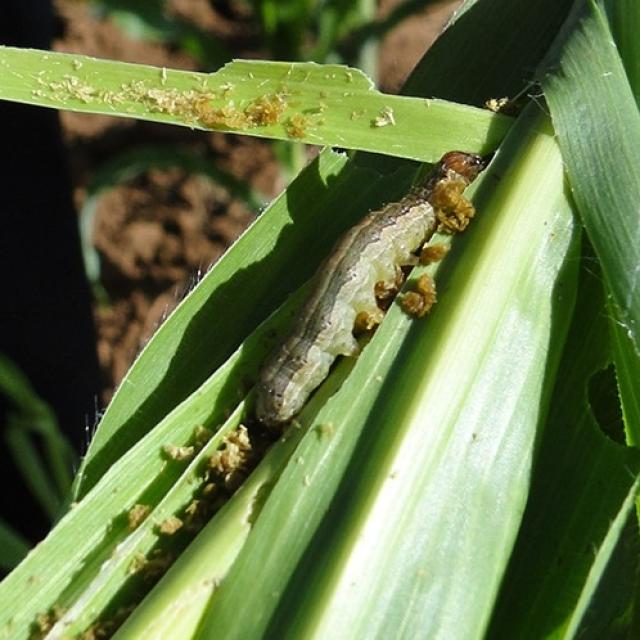Fall-armyworm: (251, 191, 440, 427)
